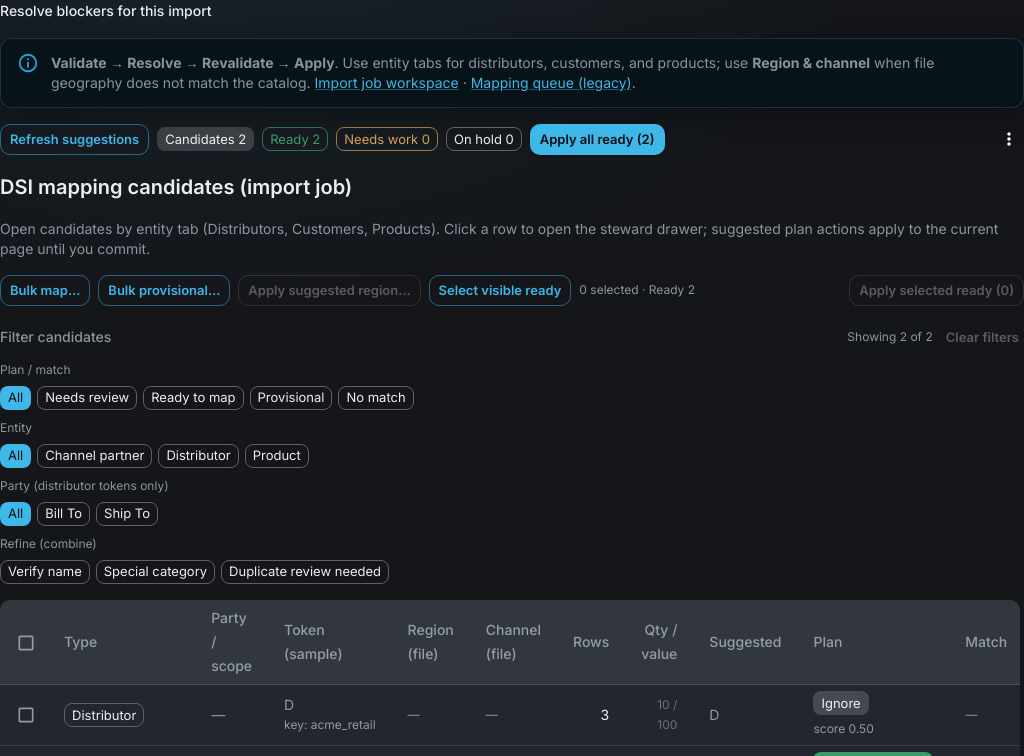
Scenario: DsiImportJobResolutionSection resolution plan › entity and action filter chips narrow visible rows
Click the button with test id "dsi-filter-entity-distributor" at (199, 456), box [158,444,239,468]
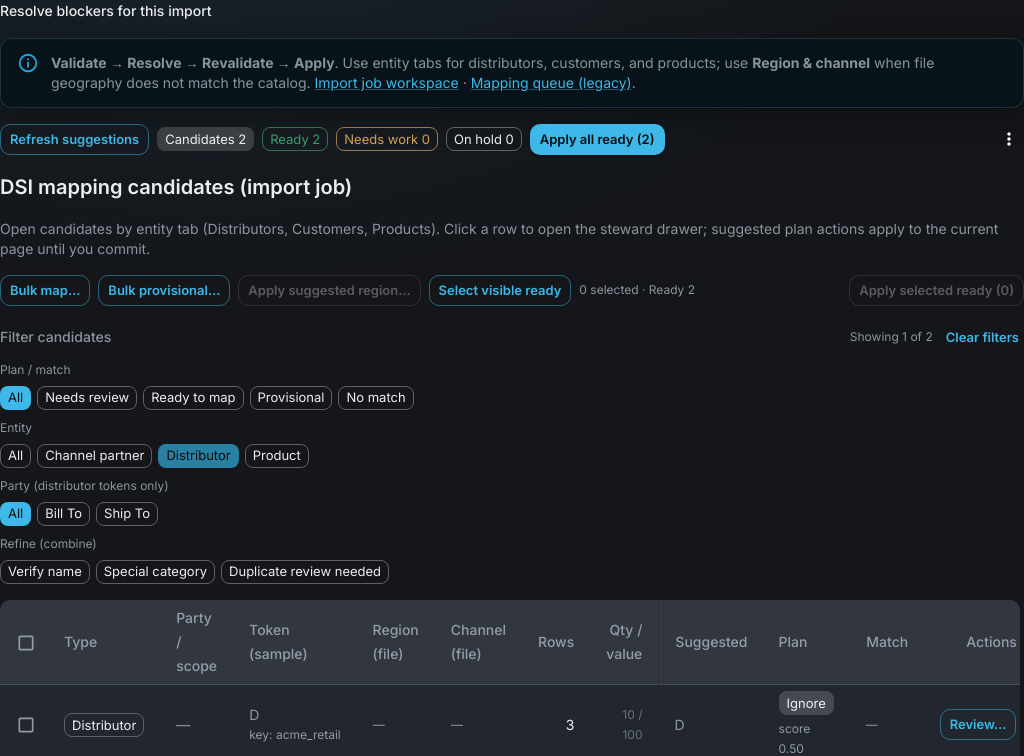
Expected: the 1st text titled "D" is shown, [249,706,259,723]
Now the text "Showing 1 of 2" is shown, box [850,327,933,347]
Click the button with test id "dsi-filter-entity-all" at (16, 456), box [0,444,31,468]
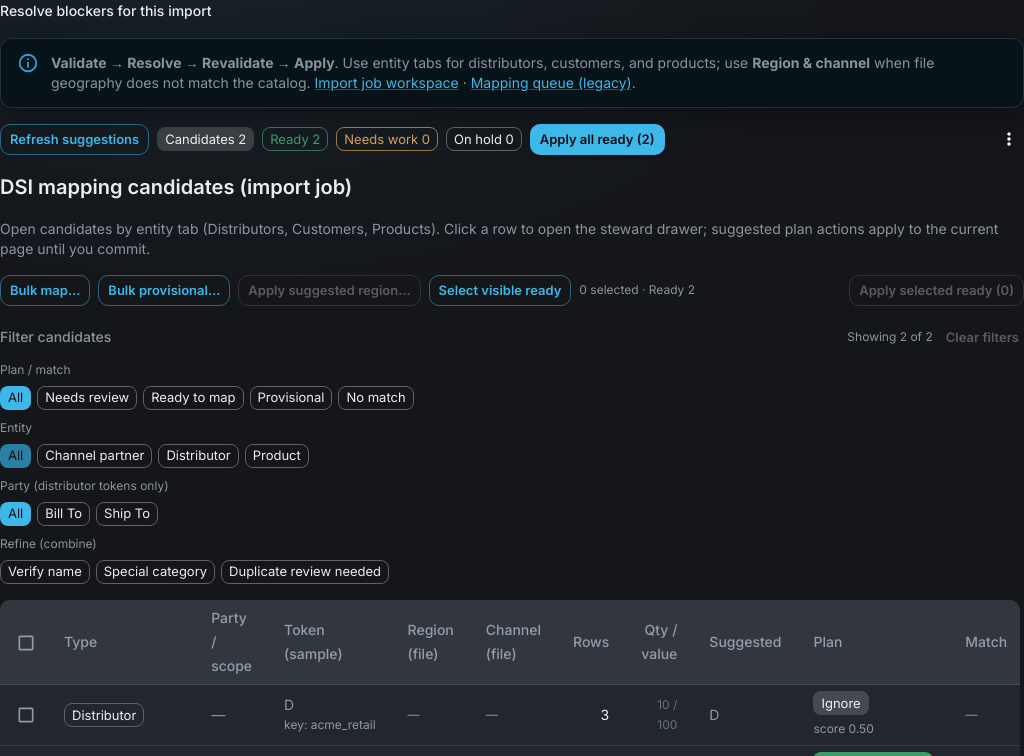
Click the button with test id "dsi-filter-queue-ready_to_map" at (193, 398), box [143,386,244,410]
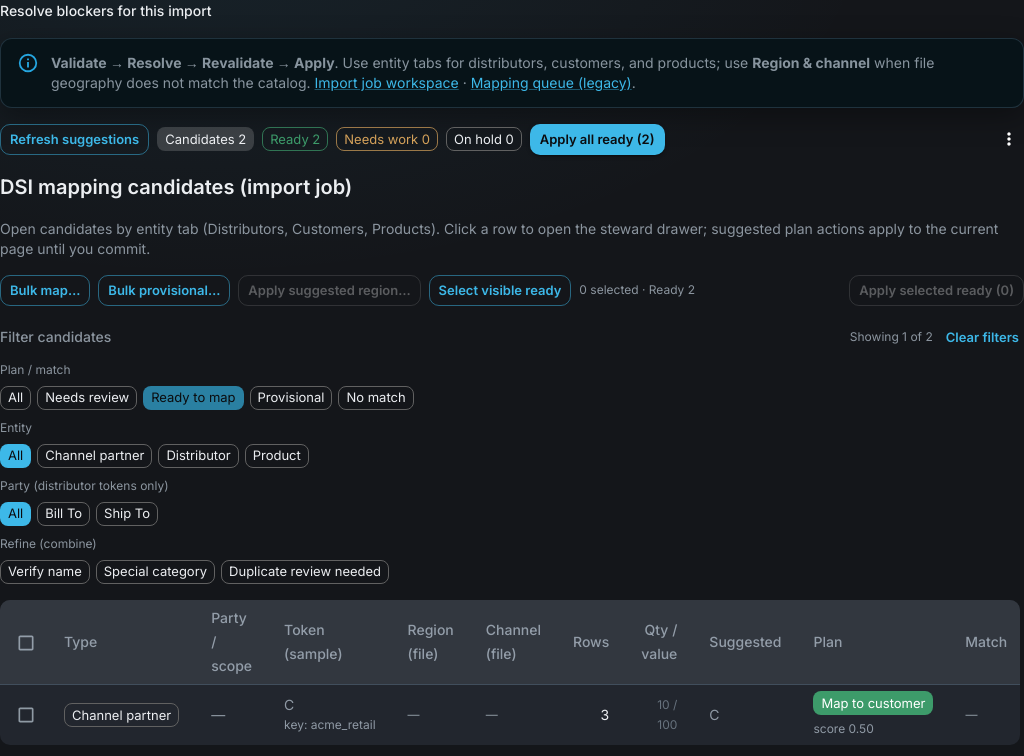
Expected: the 1st text titled "C" is shown, [284,696,294,713]
Now the text "Showing 1 of 2" is shown, box [850,327,933,347]
Now the text titled "D" is gone
